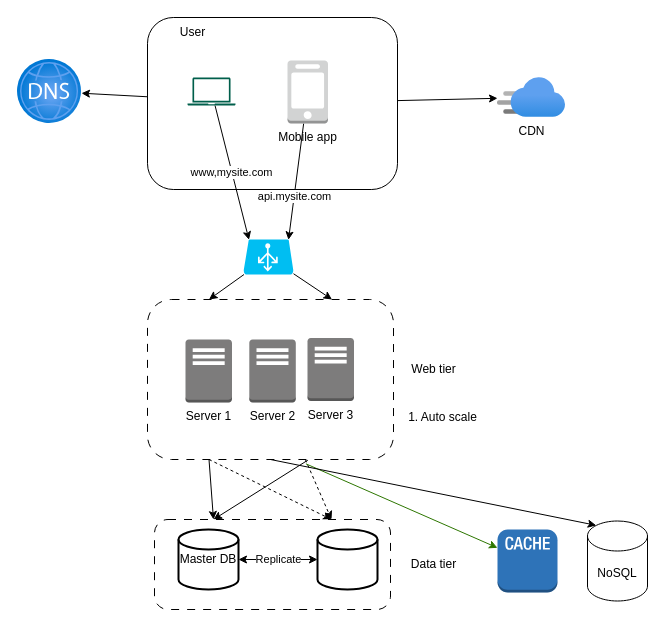
Some shapes in this 665 by 631 pixel diagram are drawn without their labels. Here are the shapes that lost their labels. From the top down, the centre of each, then its label:
the point at 211,91: Web browser
the point at 347,559: Slave DB
the point at 527,560: Cache
